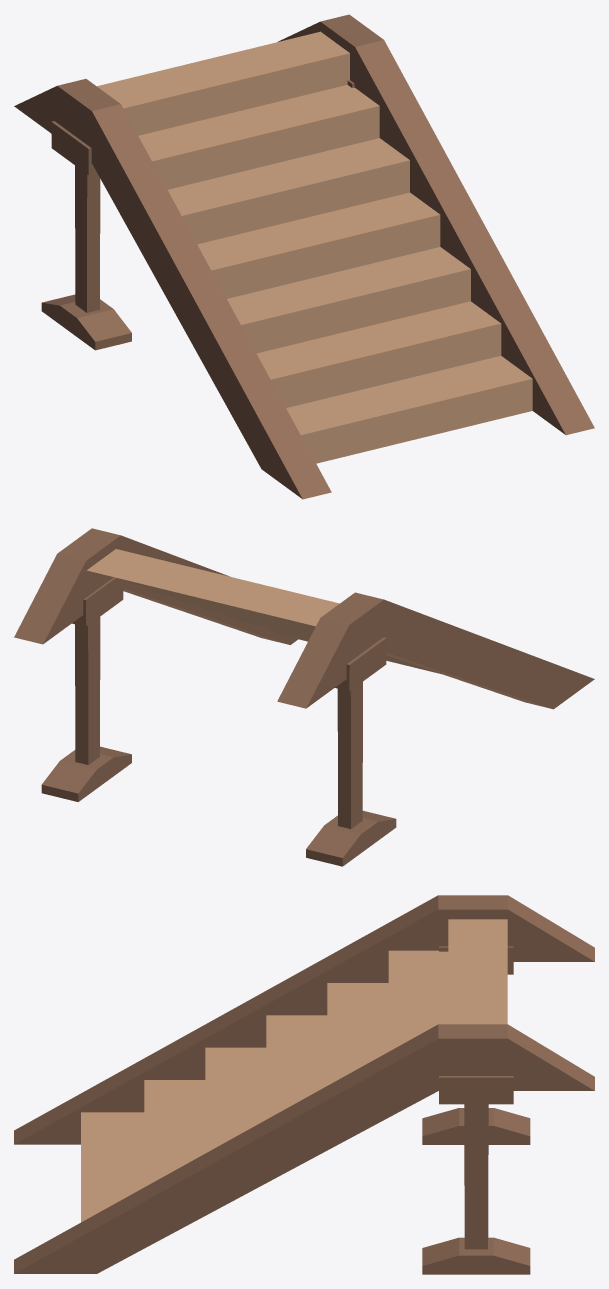
Rendered from quaternius-ultimate-space-stairs-transformed.glb.
3 renders of one model, top to bottom at view 1: azimuth 30°, elevation 25°; view 2: azimuth 150°, elevation 25°; view 3: azimuth 270°, elevation 25°, orthographic.
Visible parts, largest first — view 1: Stairs; view 2: Stairs; view 3: Stairs.
Boxes of the visible parts, x1=… form: Stairs: x1=14, y1=14, x2=594, y2=499; Stairs: x1=14, y1=528, x2=594, y2=866; Stairs: x1=14, y1=895, x2=594, y2=1274.
Size of the model in its own units: 1.87 by 1.39 by 3.11.
Materials: 1 (1 with a texture image).
